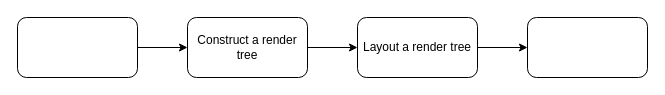
The diagram is 665 pixels wide and 95 high, and some of its shapes have lost their labels. The centre of each missing label's shape, as x and y in pixels:
"Paint the render tree" goes at (587,47).
"Parse HTML and Construct DOM tree" goes at (77,47).
